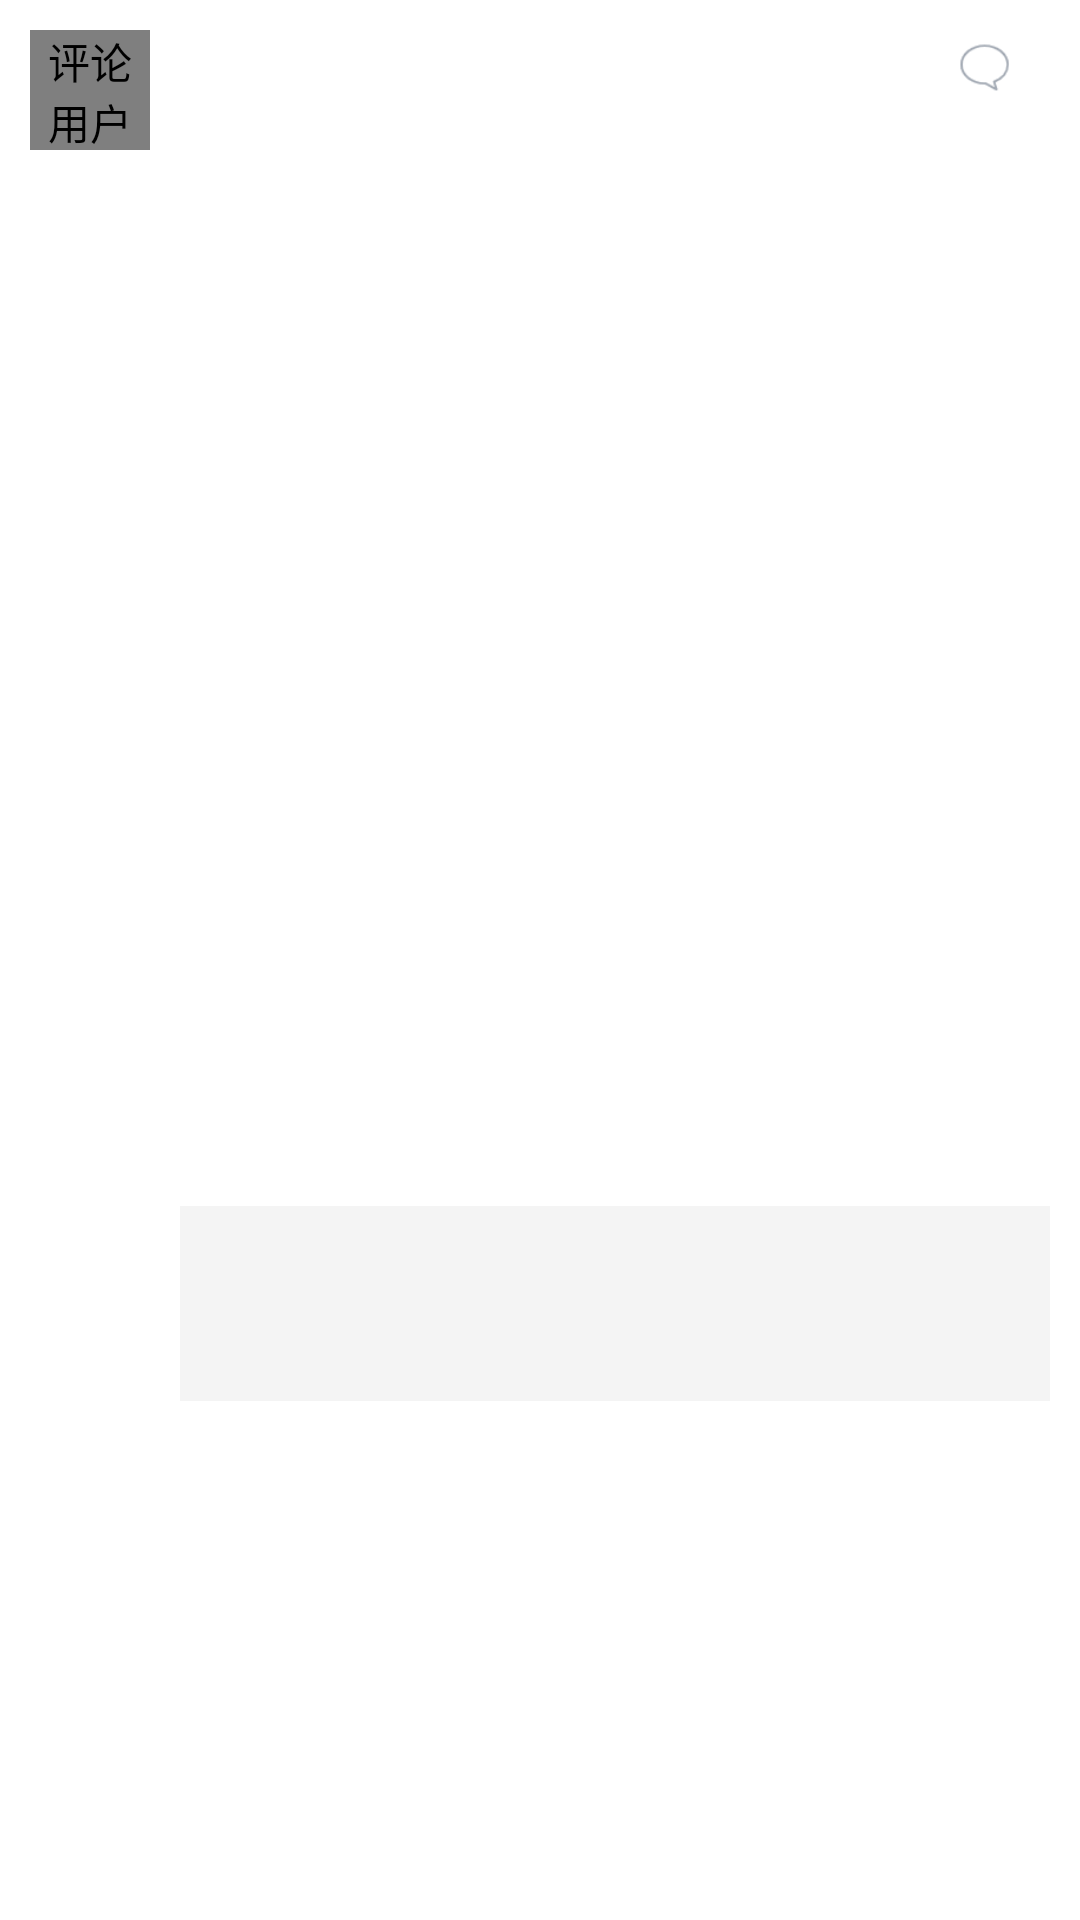

Screen size 1080*1920. Icon name, then its box in pixels as (x1, y1, x2, y2):
pond comment: (960, 44, 1009, 91)
